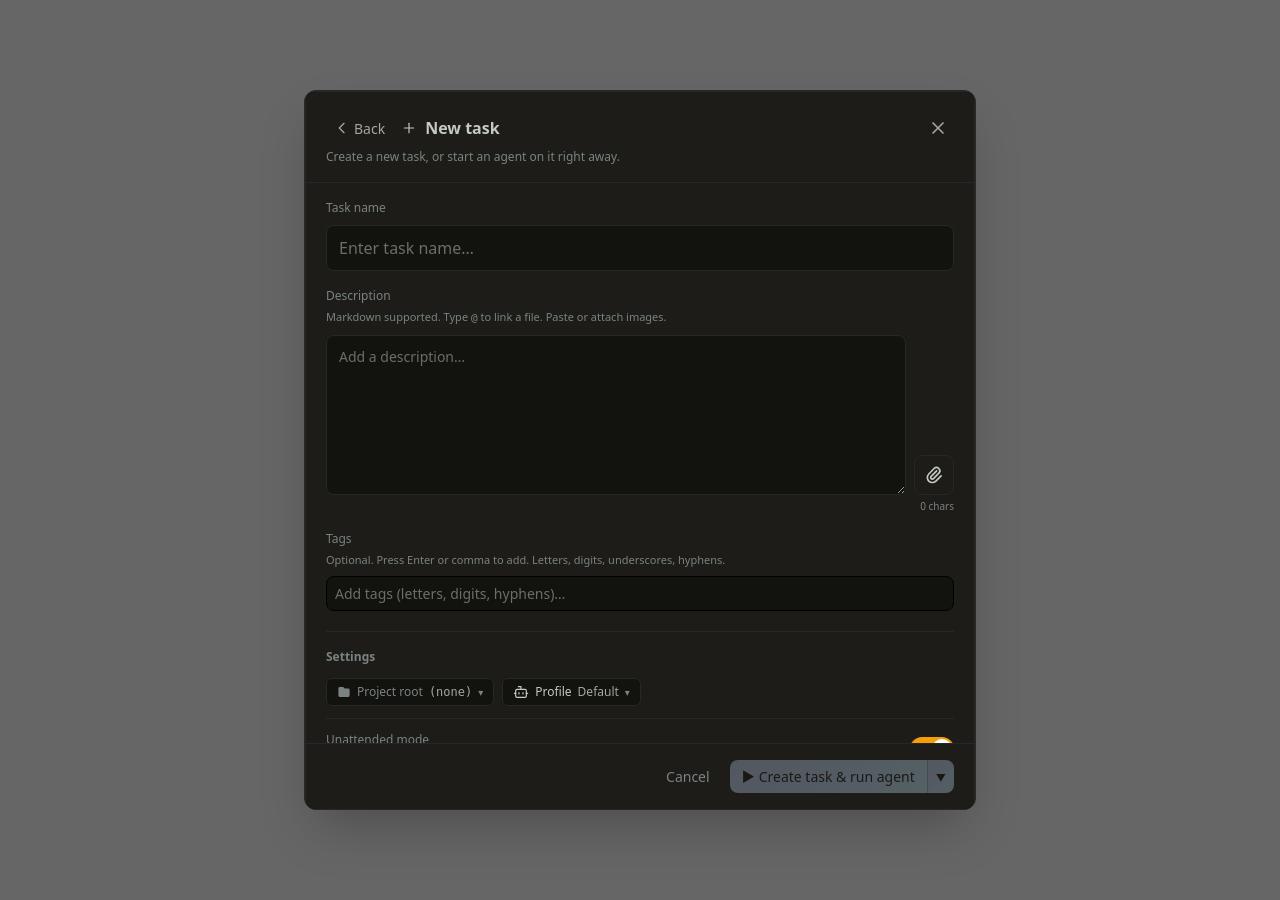
KanbanTaskDetailDialog — layout › create mode: cwd picker opens at cwd_session (folder query fix) › when cwd_session is empty, the picker opens at "/" (root folders visible)
Click the button with test id "kanban-task-detail-cwd-picker" at (410,692), box [326,678,494,706]
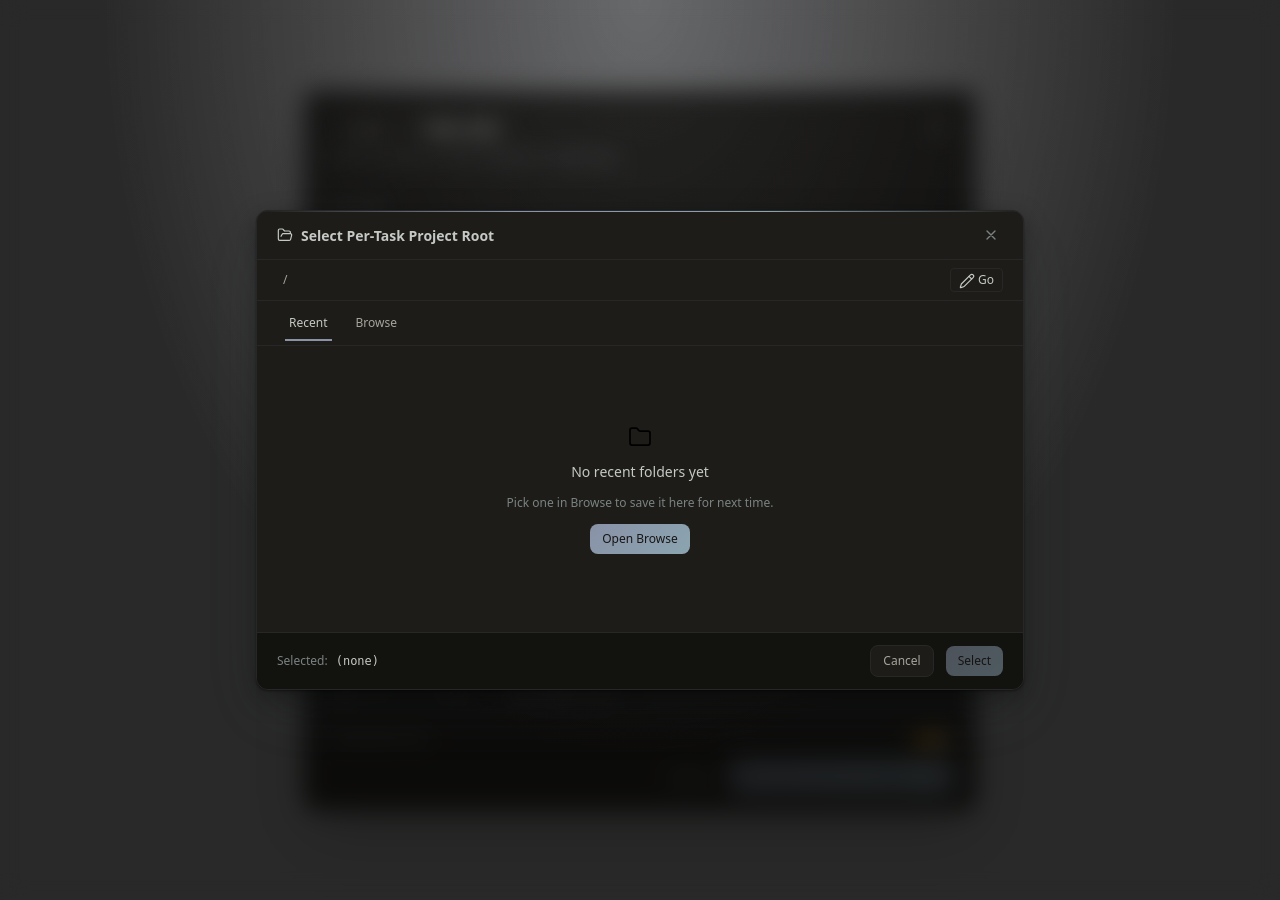
Click the tab with test id "file-picker-tab-browse" at (376,323), box [344,305,409,341]
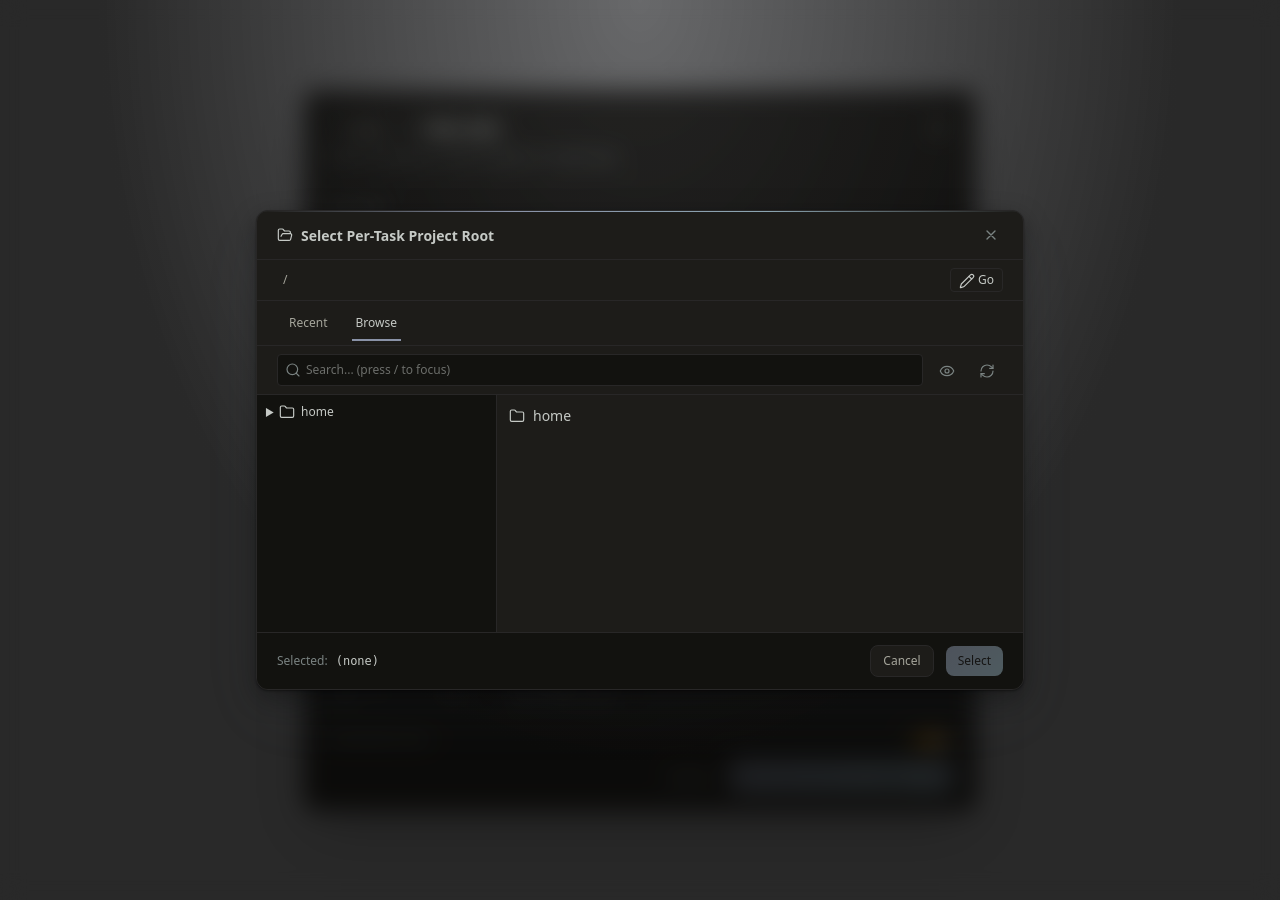
expect the button with test id "file-picker-item-/home" is shown: met, box [497,399,1023,432]
